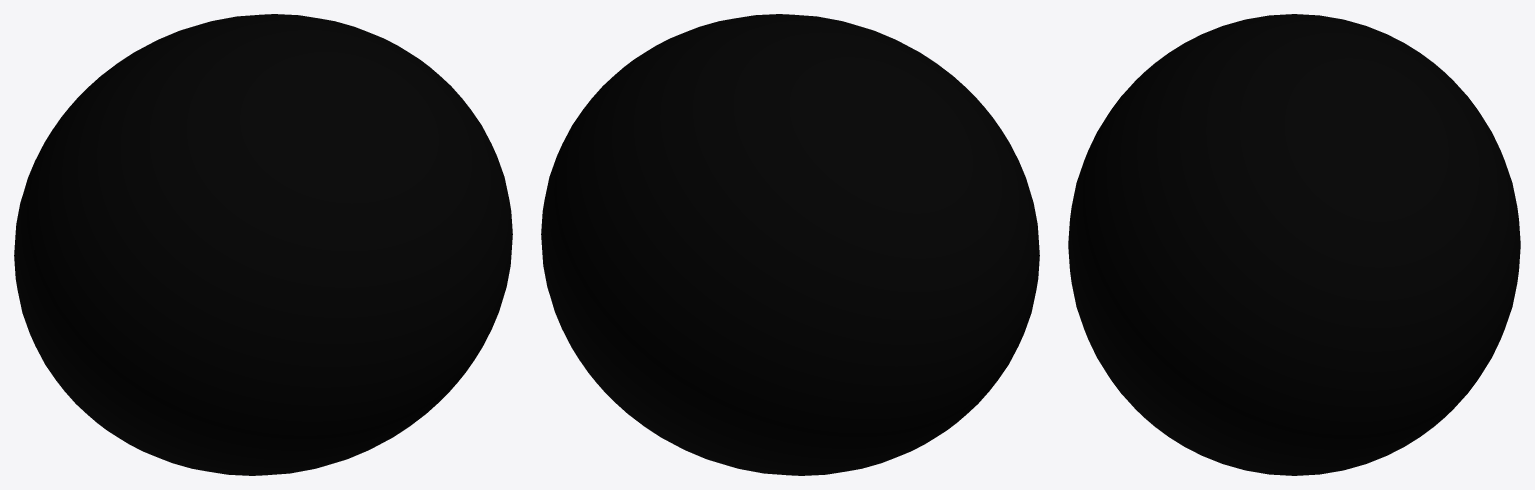
3 renders of one model, left to right at view 1: azimuth 30°, elevation 25°; view 2: azimuth 150°, elevation 25°; view 3: azimuth 270°, elevation 25°, orthographic.
Visible parts, largest first — view 1: mesh_id27; view 2: mesh_id27; view 3: mesh_id27.
Part boxes in pixels (x1,y1,x2,y2): mesh_id27: (14,14,512,475); mesh_id27: (541,14,1039,475); mesh_id27: (1068,14,1520,475).
Bounding box in the file's own units: 0.3171 × 0.2852 × 0.2852.
1 material, 1 textured.
